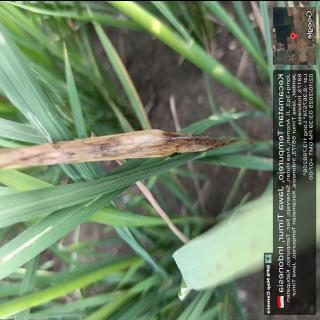Busuk-Pelepah: (0, 128, 253, 167)
